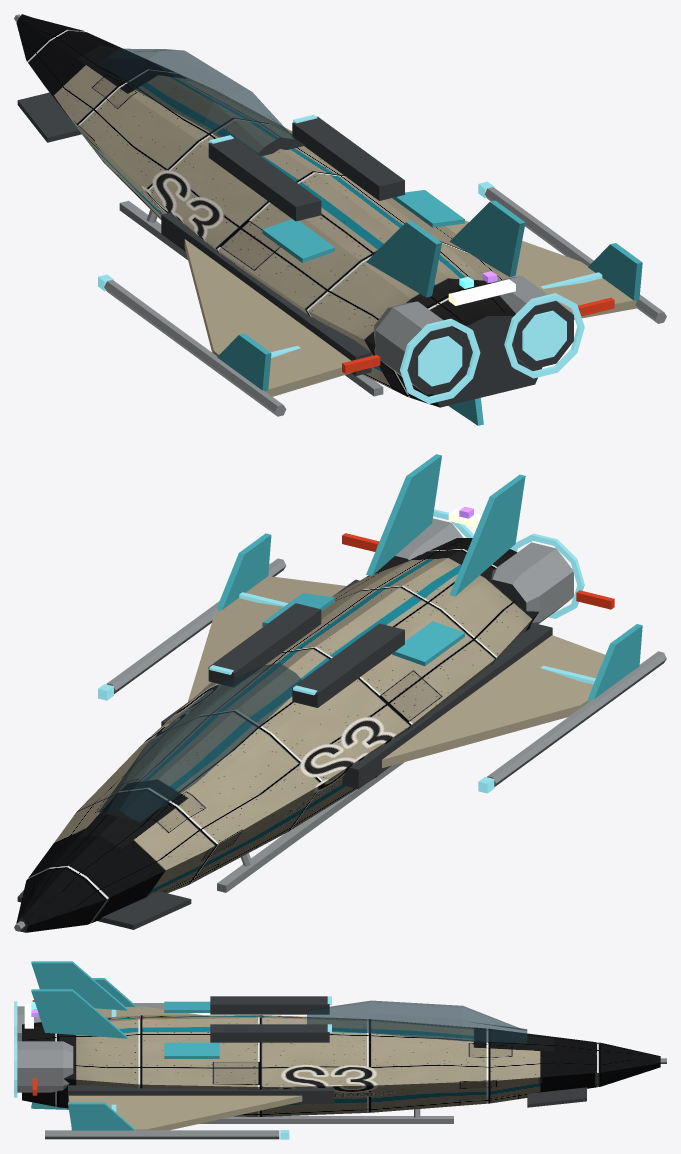
The model's file is lance.glb.
The picture shows the model from 3 angles, top to bottom: view 1: azimuth 30°, elevation 25°; view 2: azimuth 150°, elevation 25°; view 3: azimuth 270°, elevation 25°; orthographic projection. The views are drawn at different scales.
Parts seen in each view (by area): view 1: body_static, steering_fin_L_body, steering_fin_R_body, elevon_R_body, elevon_L_body, airbrake_L_body, airbrake_R_body, skids_body; view 2: body_static, steering_fin_R_body, steering_fin_L_body, skids_body, elevon_R_body, elevon_L_body, airbrake_L_body; view 3: body_static, steering_fin_R_body, steering_fin_L_body, skids_body, elevon_R_body, airbrake_R_body, airbrake_L_body, elevon_L_body.
Boxes of the visible parts, x1,y1,x2,y2 form: body_static: [14, 14, 666, 425]; steering_fin_L_body: [366, 221, 441, 297]; steering_fin_R_body: [450, 200, 525, 276]; elevon_R_body: [588, 243, 642, 300]; elevon_L_body: [217, 333, 271, 391]; airbrake_L_body: [262, 219, 334, 262]; airbrake_R_body: [392, 190, 464, 227]; skids_body: [119, 200, 383, 396]; body_static: [14, 506, 666, 932]; steering_fin_R_body: [366, 454, 441, 575]; steering_fin_L_body: [449, 474, 525, 596]; skids_body: [217, 762, 404, 892]; elevon_R_body: [217, 533, 271, 611]; elevon_L_body: [588, 624, 642, 702]; airbrake_L_body: [392, 621, 464, 666]; body_static: [14, 996, 666, 1139]; steering_fin_R_body: [31, 989, 127, 1038]; steering_fin_L_body: [31, 961, 127, 1010]; skids_body: [200, 1109, 453, 1123]; elevon_R_body: [68, 1102, 135, 1130]; airbrake_R_body: [164, 1042, 219, 1058]; airbrake_L_body: [164, 1001, 210, 1012]; elevon_L_body: [92, 978, 135, 1006].
Size of the model in its own units: 3.38 by 1.6 by 7.11.
Materials: 10 (2 with a texture image).
